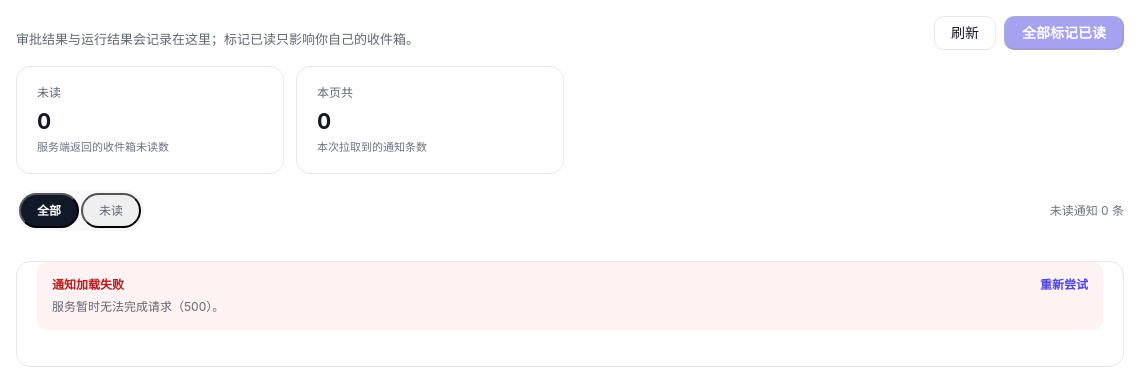
it: InboxPage › shows a retryable error and reloads the list
This screenshot has width=1141, height=384.
Expected: the message shows "通知加载失败", [52,277,124,292]
Click the button "重新尝试".
click(1064, 285)  # box [1040,275,1088,294]
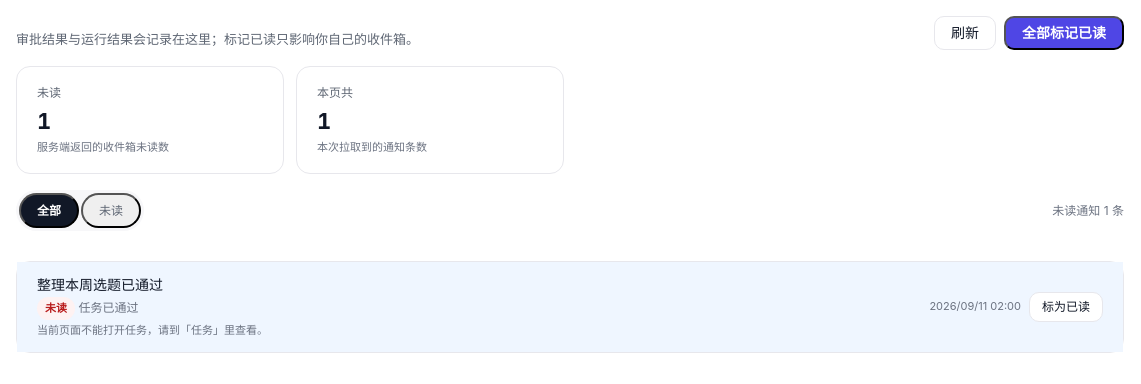
Expected: the text "整理本周选题已通过" is shown, [37,276,163,293]
